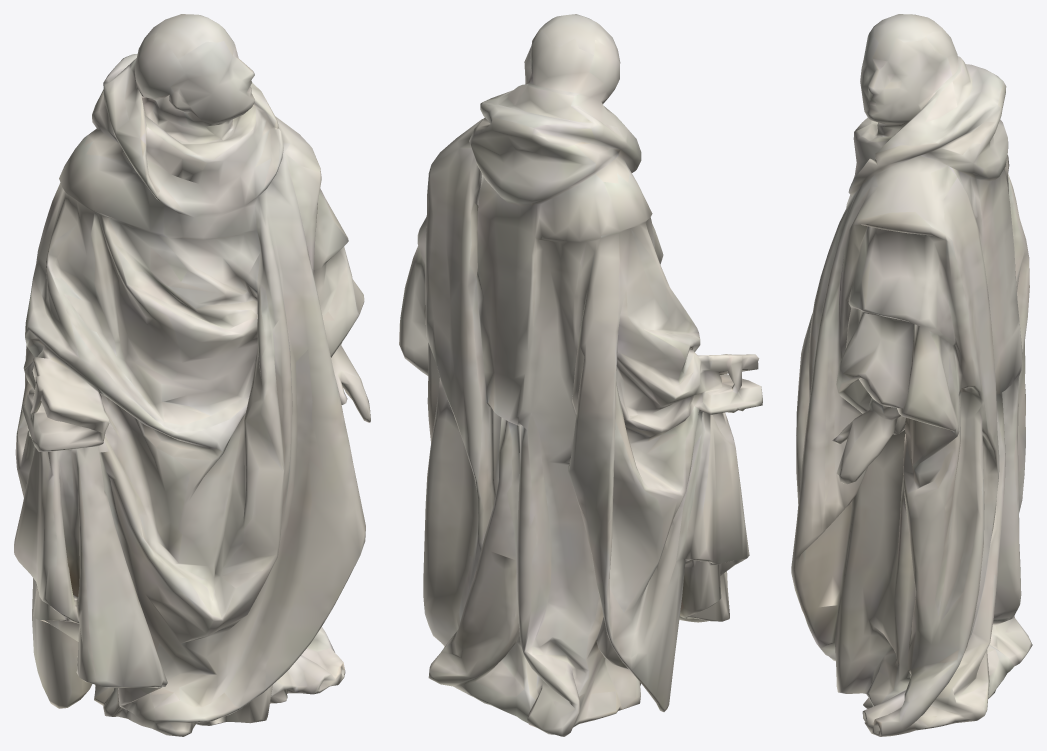
File: lamplighter-mourner.glb
The picture shows the model from 3 angles, left to right: view 1: azimuth 30°, elevation 25°; view 2: azimuth 150°, elevation 25°; view 3: azimuth 270°, elevation 25°; orthographic projection. The views are drawn at different scales.
Visible parts, largest first — view 1: low; view 2: low; view 3: low.
Part boxes in pixels (x1,y1,x2,y2): low: [14, 14, 370, 736]; low: [399, 14, 762, 736]; low: [791, 14, 1032, 736].
Size of the model in its own units: 0.9355 by 1.8 by 0.599.
1 material, 1 textured.
